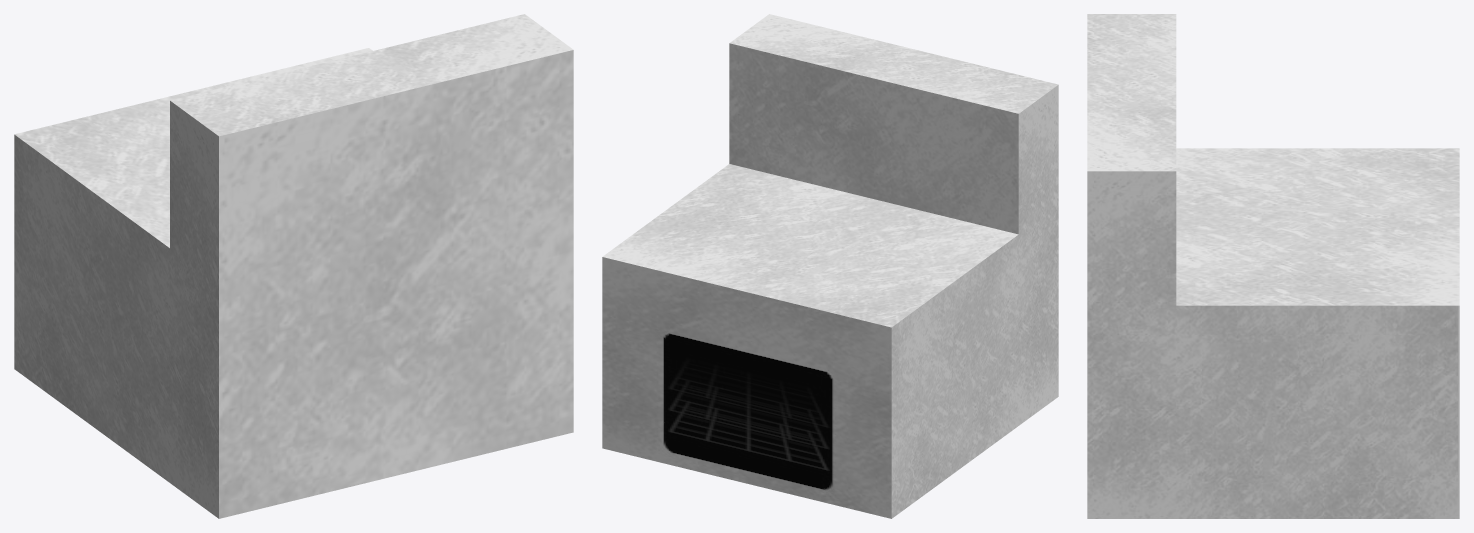
The model's file is UglyStove1.fbx.
3 renders of one model, left to right at view 1: azimuth 30°, elevation 25°; view 2: azimuth 150°, elevation 25°; view 3: azimuth 270°, elevation 25°, orthographic. The views are drawn at different scales.
Visible parts, largest first — view 1: SceneWithStuff3:pCube10; view 2: SceneWithStuff3:pCube10; view 3: SceneWithStuff3:pCube10.
Boxes of the visible parts, x1=… form: SceneWithStuff3:pCube10: x1=14, y1=14, x2=573, y2=518; SceneWithStuff3:pCube10: x1=602, y1=14, x2=1058, y2=518; SceneWithStuff3:pCube10: x1=1087, y1=14, x2=1459, y2=518.
Size of the model in its own units: 1 by 1.03 by 1.
Materials: 1 (1 with a texture image).
